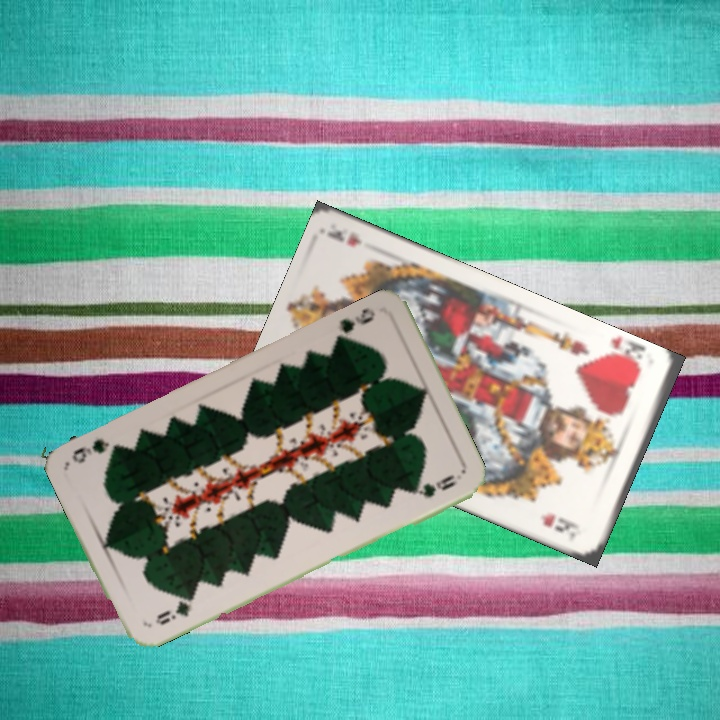G9: (332, 303, 378, 344), (151, 591, 197, 628)
HK: (595, 338, 646, 375)
